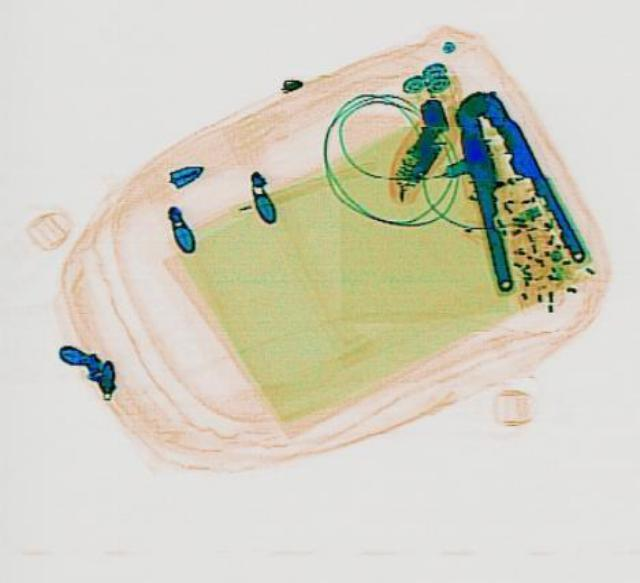Pliers: (421, 79, 589, 292)
